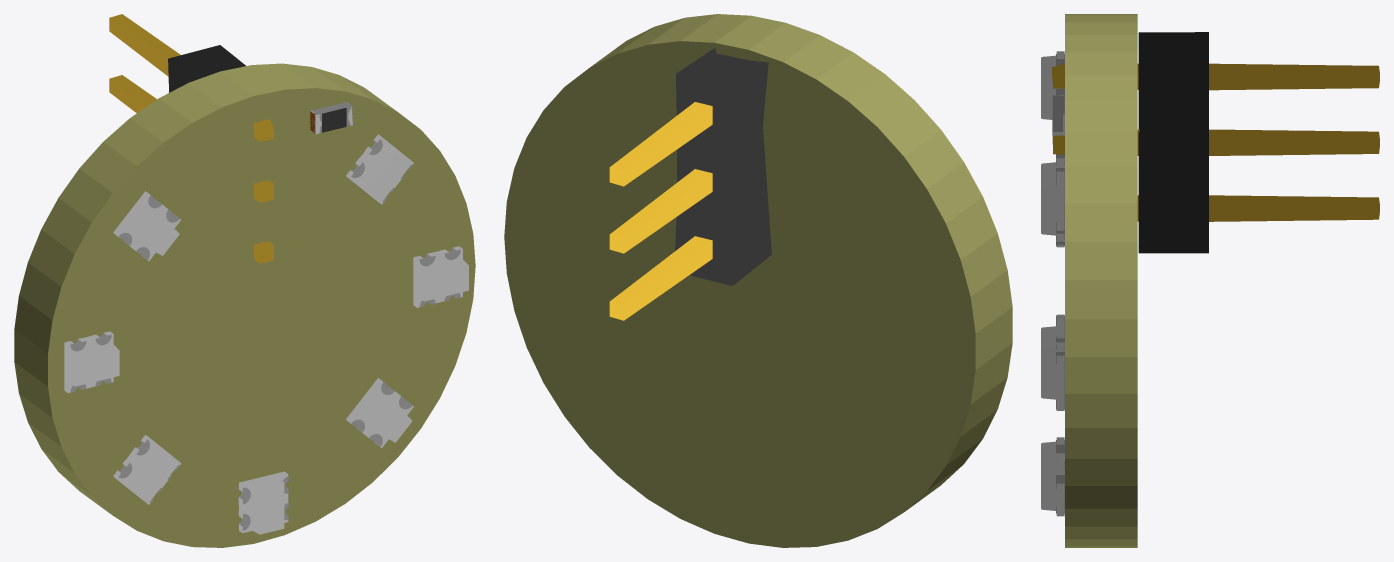
Rendered from OBJ_PCB_Techni 7x WS2812B‑2020 controller.obj.
The picture shows the model from 3 angles, left to right: view 1: azimuth 30°, elevation 25°; view 2: azimuth 150°, elevation 25°; view 3: azimuth 270°, elevation 25°; orthographic projection. The views are drawn at different scales.
Size of the model in its own units: 73.5 by 73.55 by 46.67.
